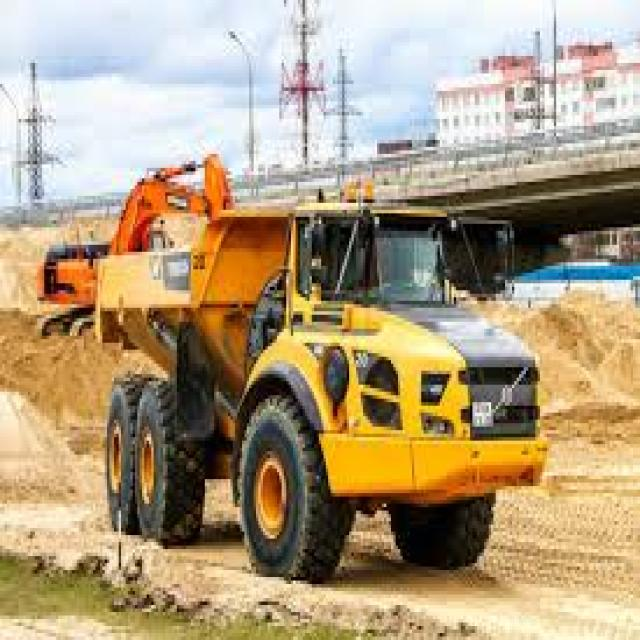dump_truck: (84, 171, 565, 591)
